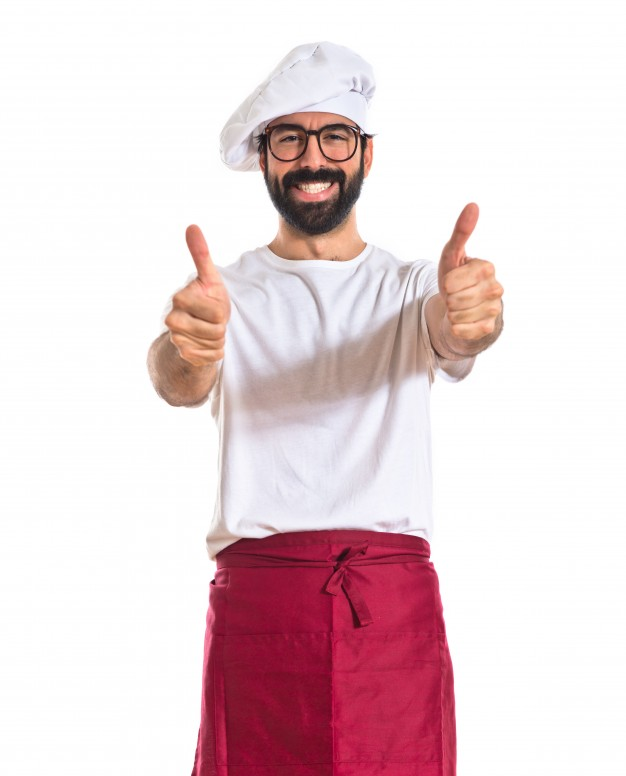thumbsup: (164, 224, 228, 367), (439, 203, 503, 340)
